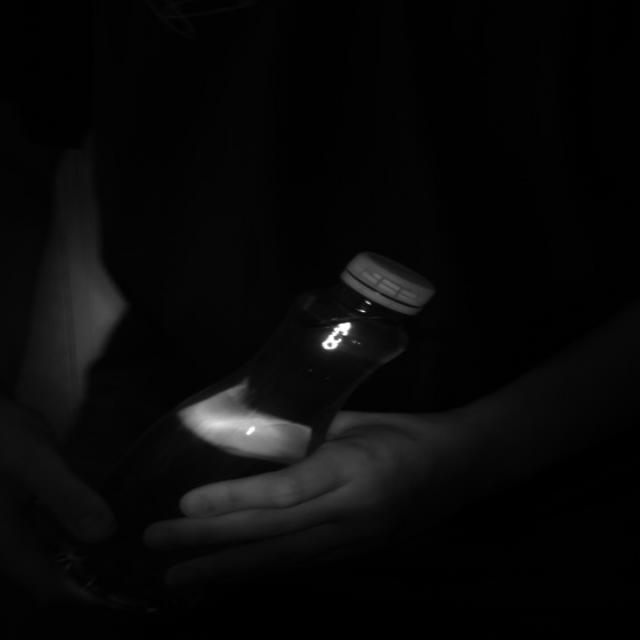Not Good: (340, 252, 432, 314)
